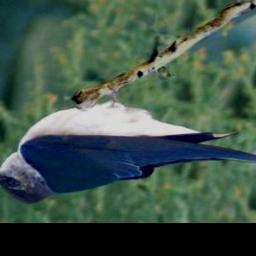Swallow: (0, 81, 256, 205)
